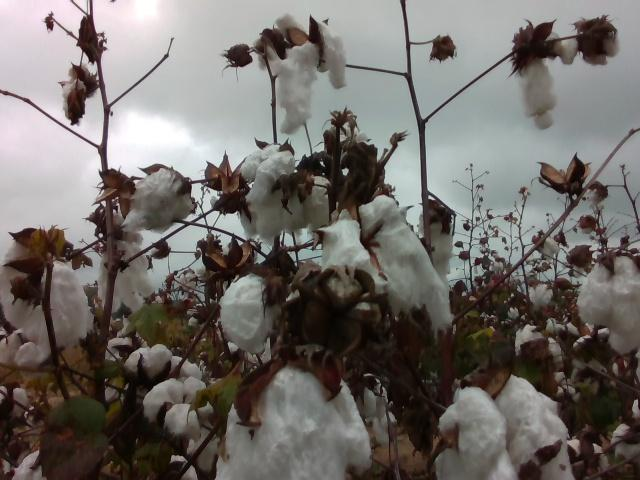cotton_ready: (213, 360, 374, 480), (434, 374, 574, 480), (358, 194, 457, 338), (260, 13, 349, 139), (3, 232, 96, 352), (246, 153, 333, 243), (577, 254, 640, 354), (322, 209, 389, 298), (525, 27, 580, 129), (219, 277, 282, 355), (120, 166, 197, 229), (142, 377, 213, 440), (98, 237, 154, 314), (240, 145, 282, 241), (125, 345, 201, 382), (416, 212, 457, 280), (363, 375, 397, 446), (187, 424, 215, 469), (11, 452, 46, 480), (61, 77, 84, 119), (0, 386, 29, 418), (166, 454, 199, 480)
